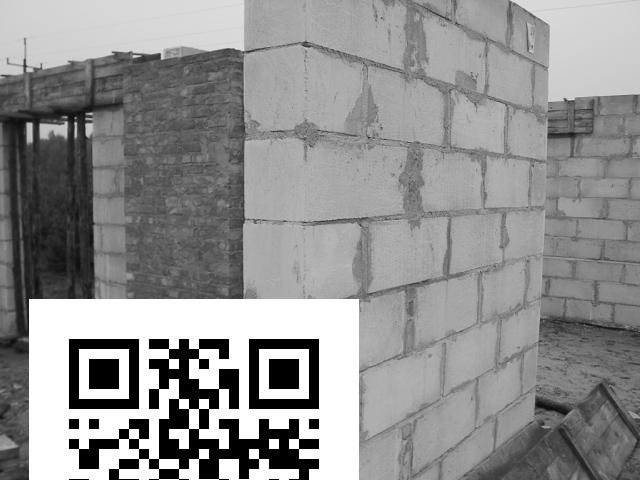qr_code: (29, 299, 360, 480)
